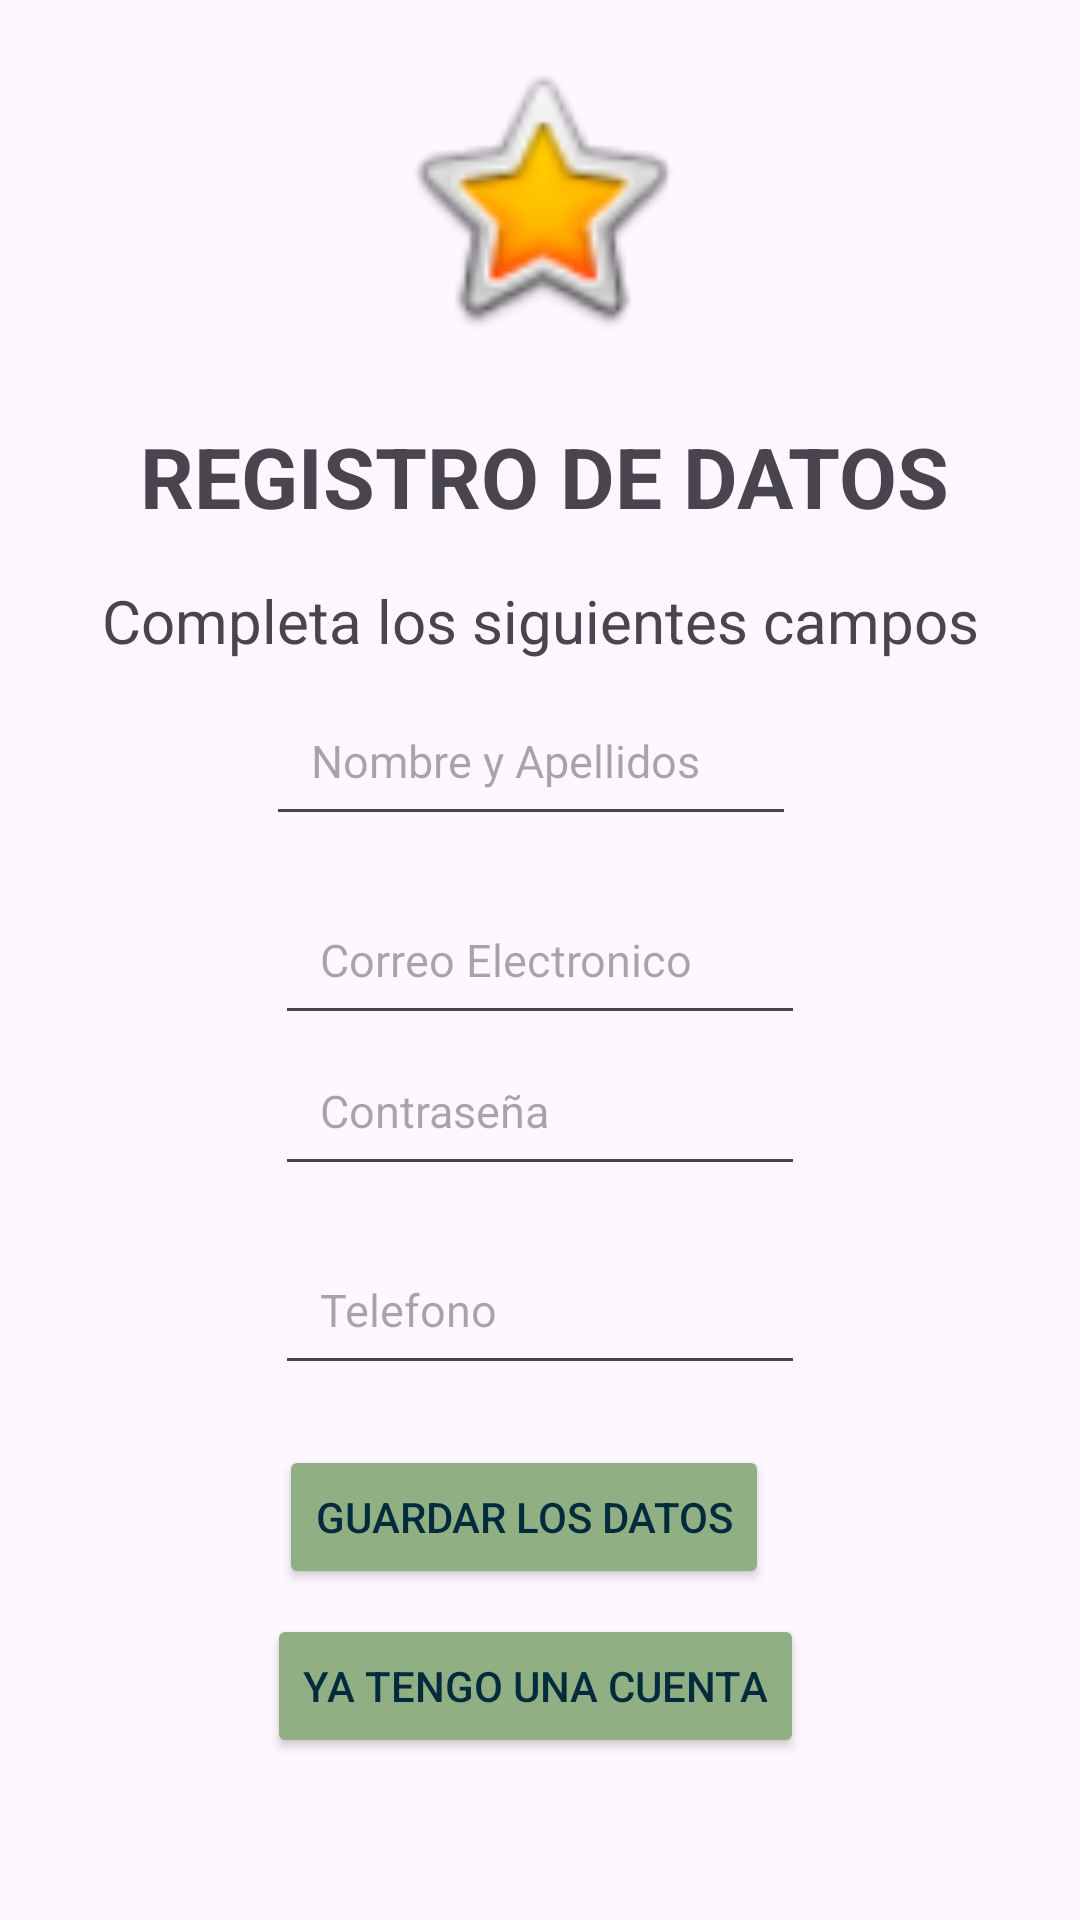

Icon click points for this 1080px x 1920px phone screenshot, format (x=x, y=y):
star on: (x=543, y=200)
